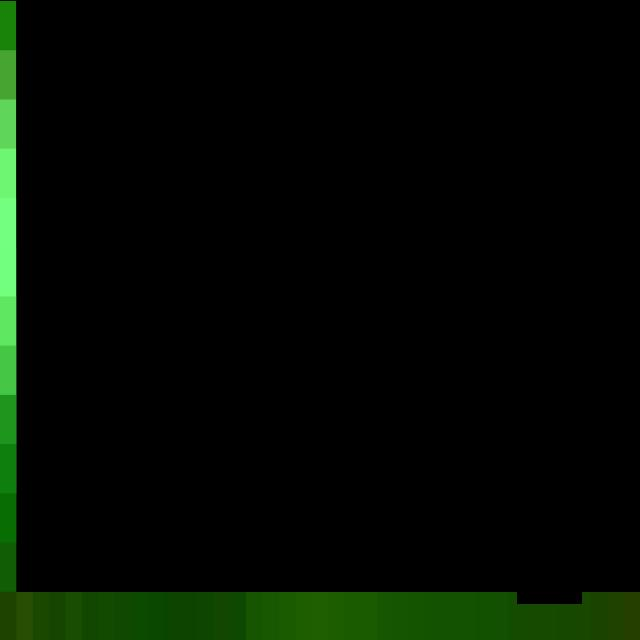nofire: (16, 0, 640, 591)
